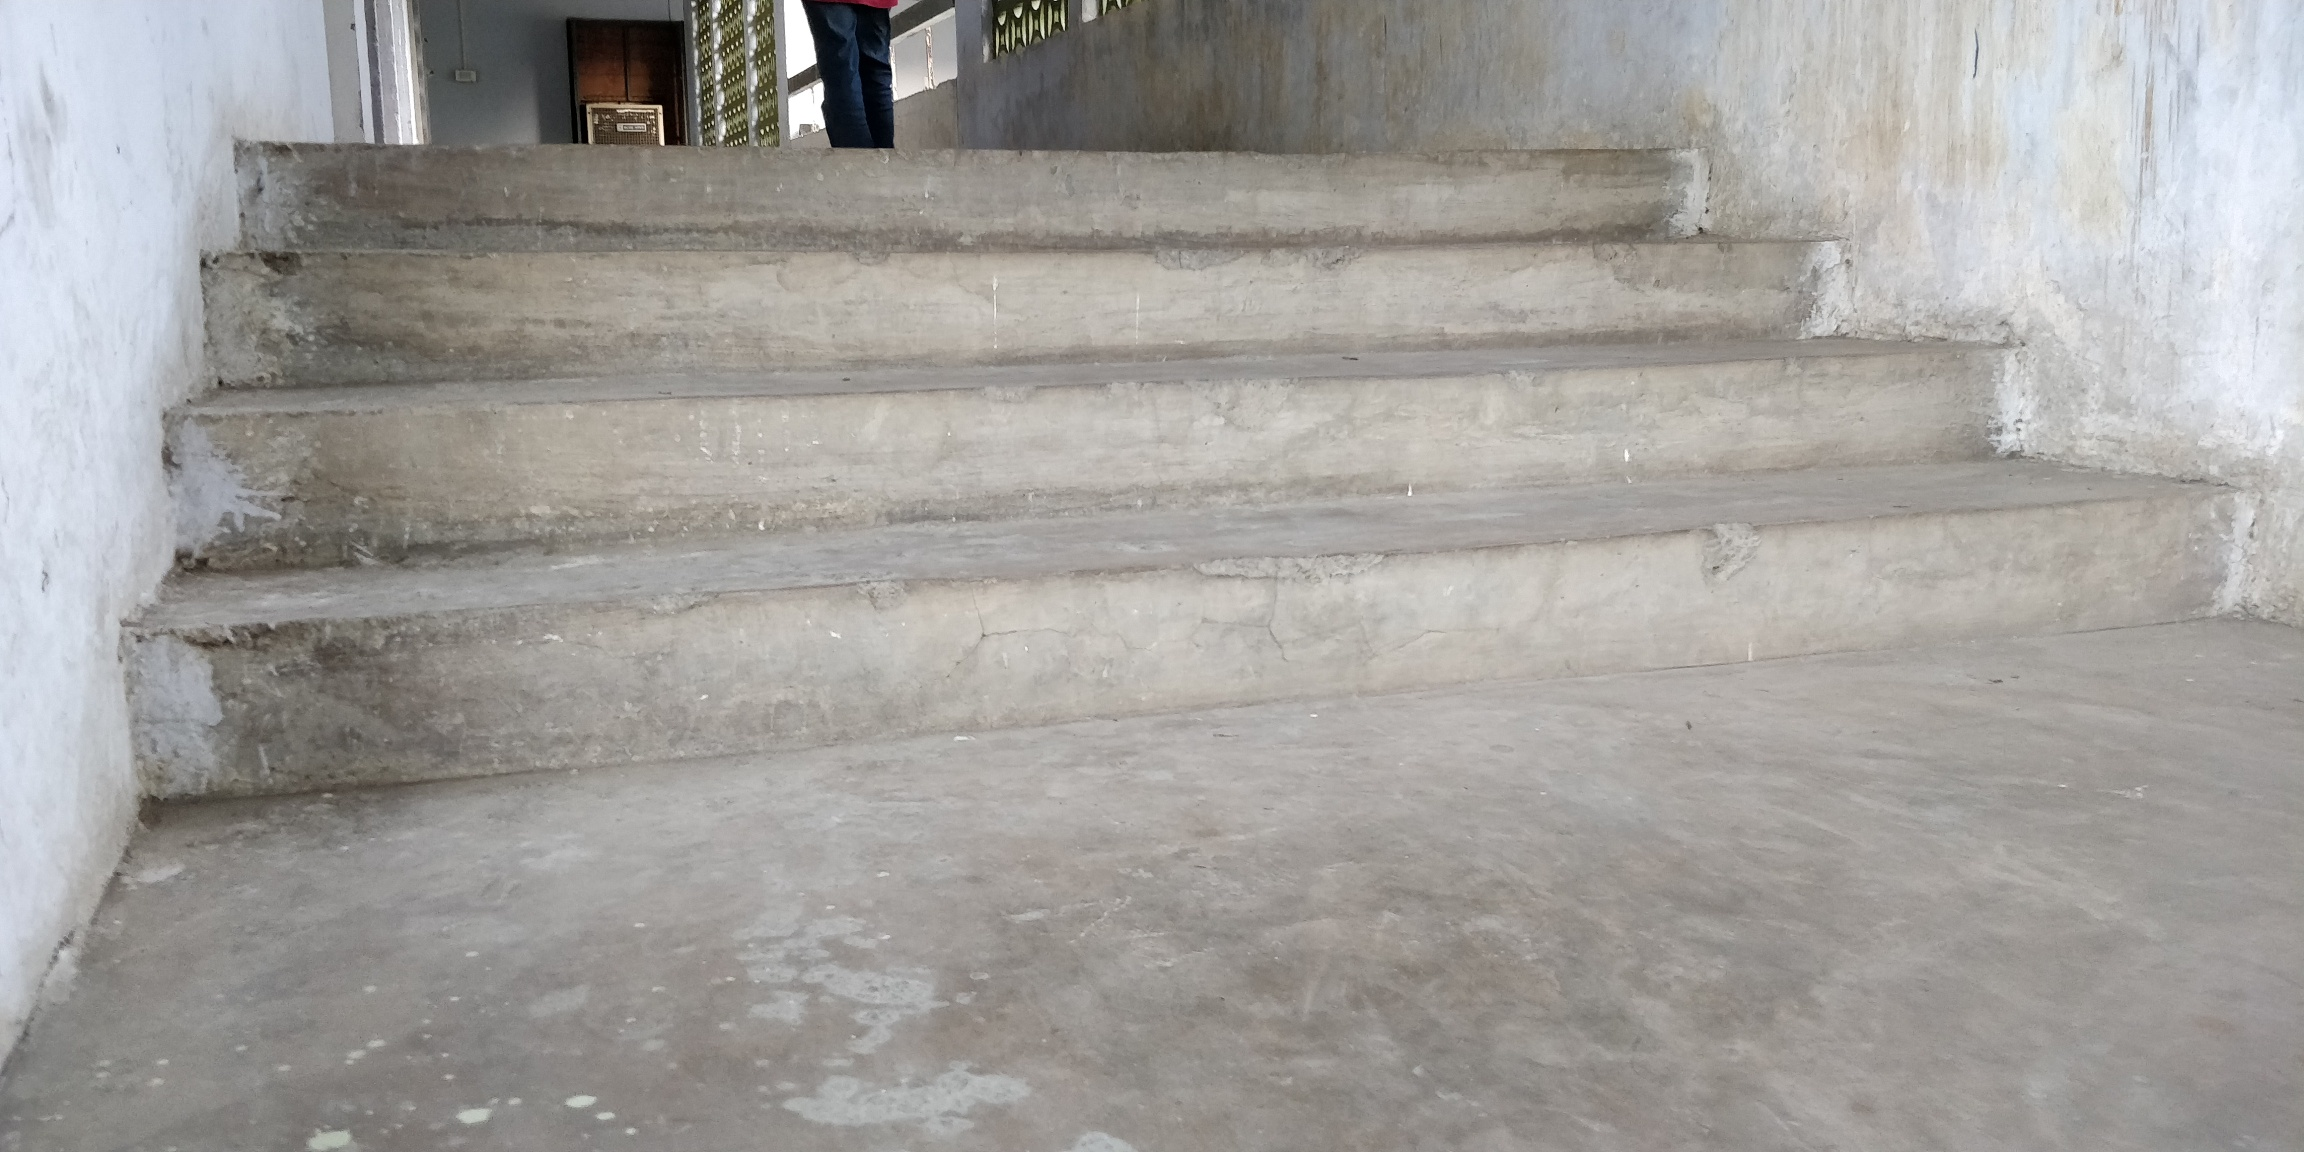stairs_up: (143, 85, 2235, 694)
